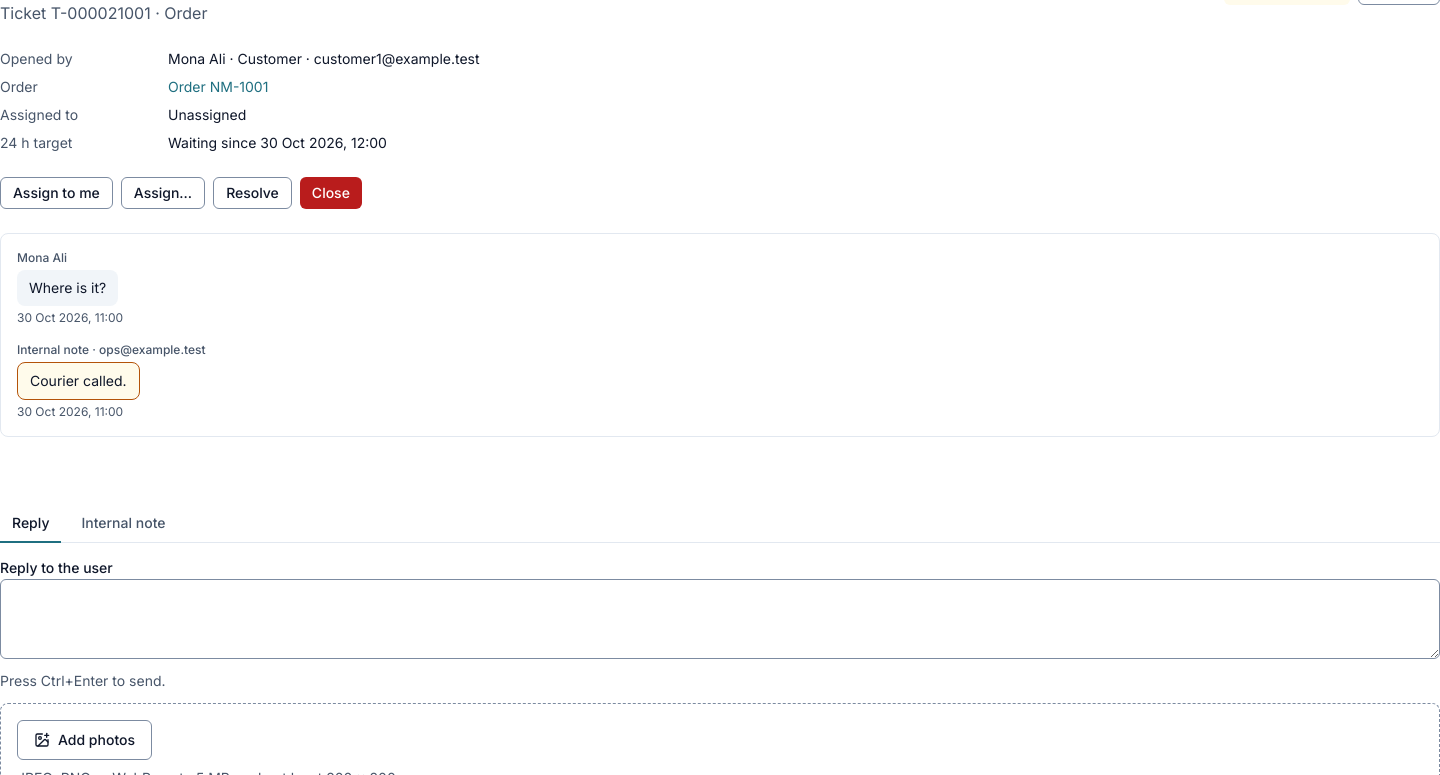
Test: ticket (spec 03 AD-29, T-M5) › a reply goes to the user (no "internal"), a note is internal and sends no typing signal
Type "On its way" into the text box labelled "Reply to the user". click: point(720, 619)
box: [0, 579, 1439, 659]
(page scrolled)
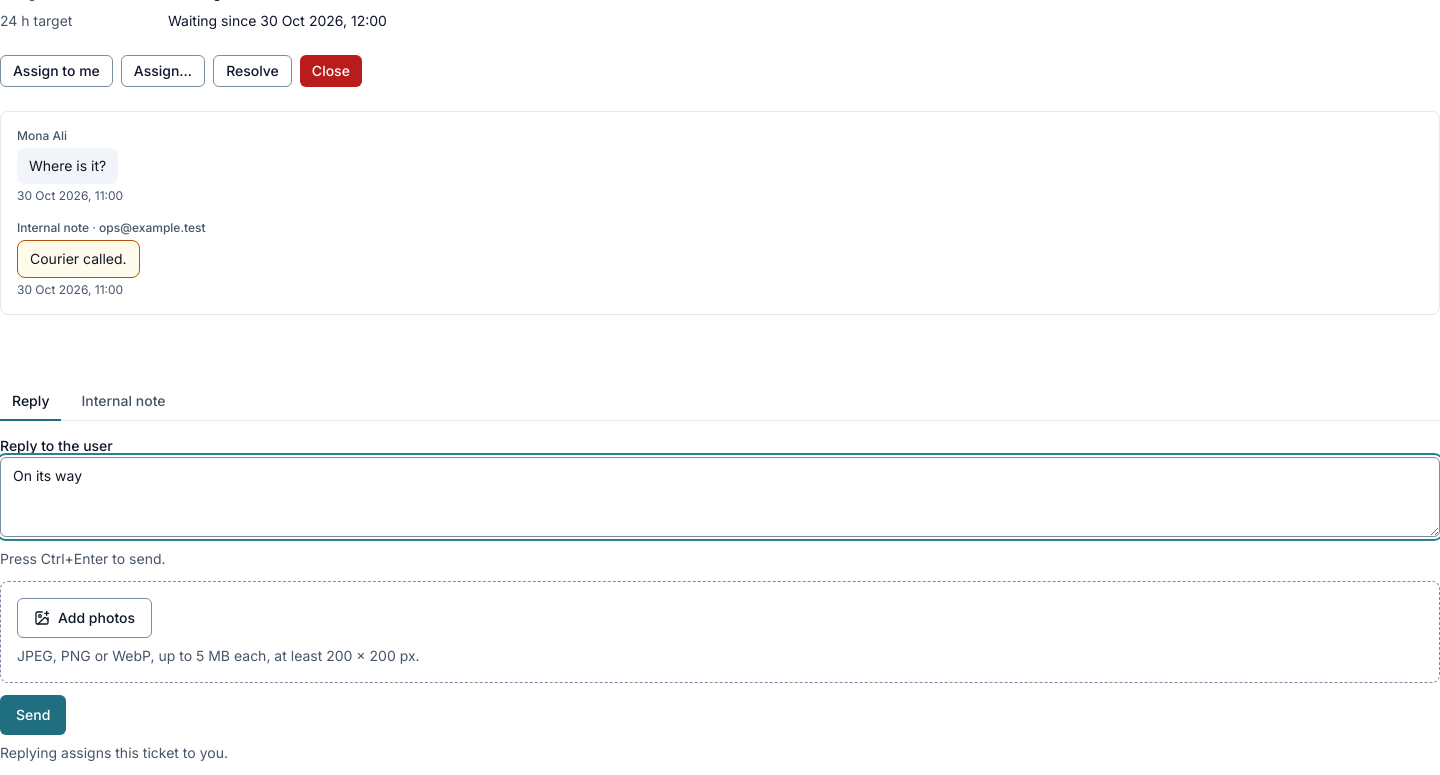
Click the button "Send". click: point(33, 715)
box: [0, 695, 66, 735]
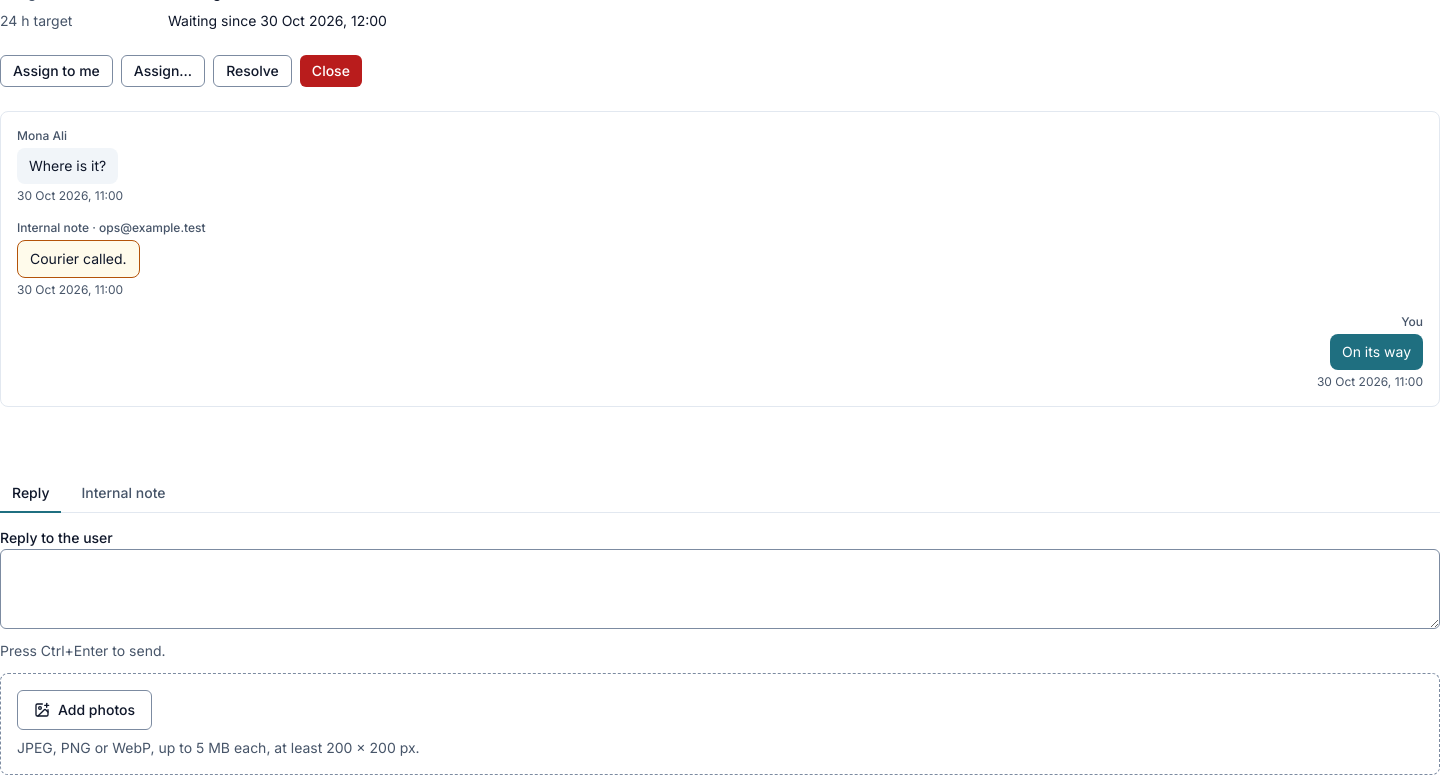
expect the text "On its way" is shown: met, box [1342, 342, 1411, 362]
Click the tab "Internal note". click: point(123, 494)
box: [69, 475, 177, 513]
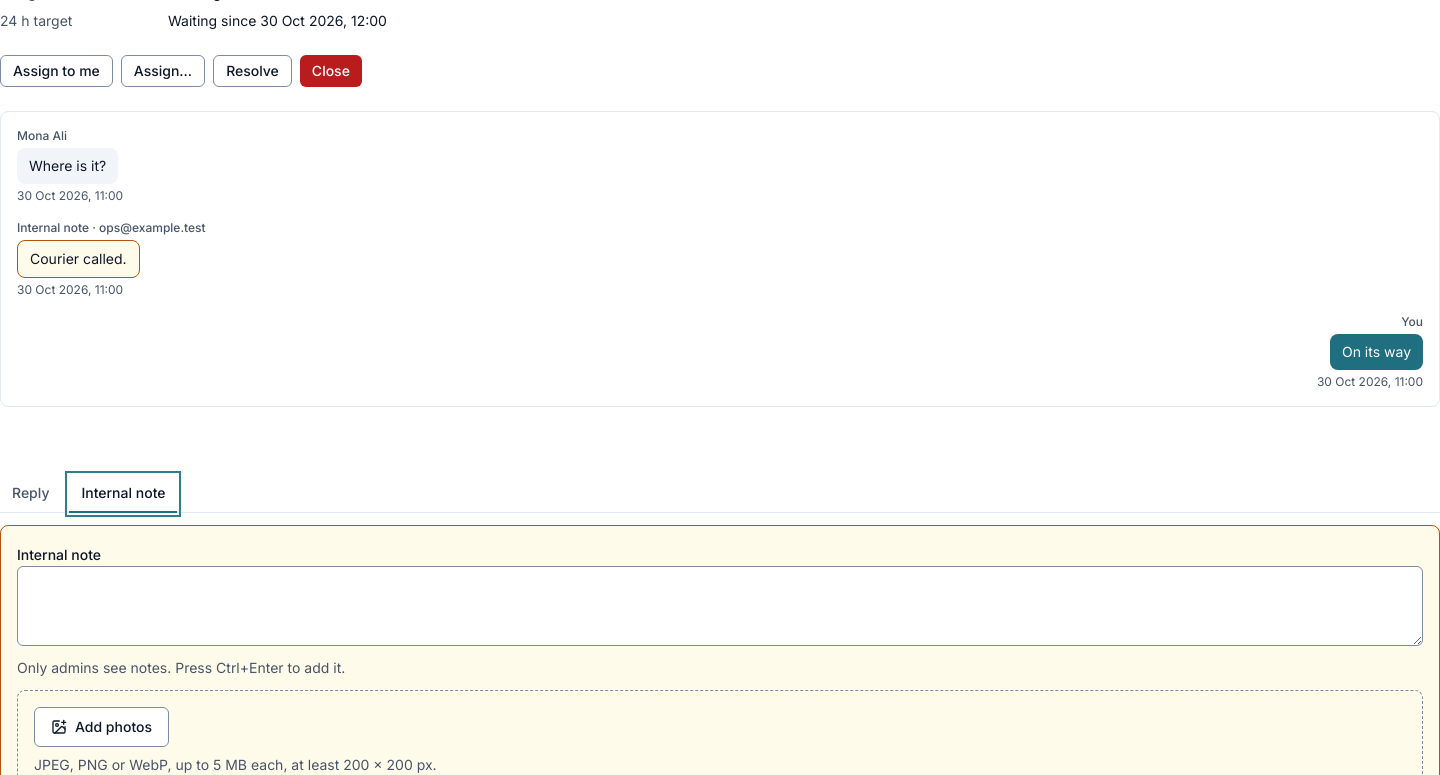
expect the tab "Internal note" is selected: met, box [69, 475, 177, 513]
Type "Refund if lost" into the text box labelled "Internal note". click: point(720, 606)
box: [17, 566, 1423, 646]
(page scrolled)
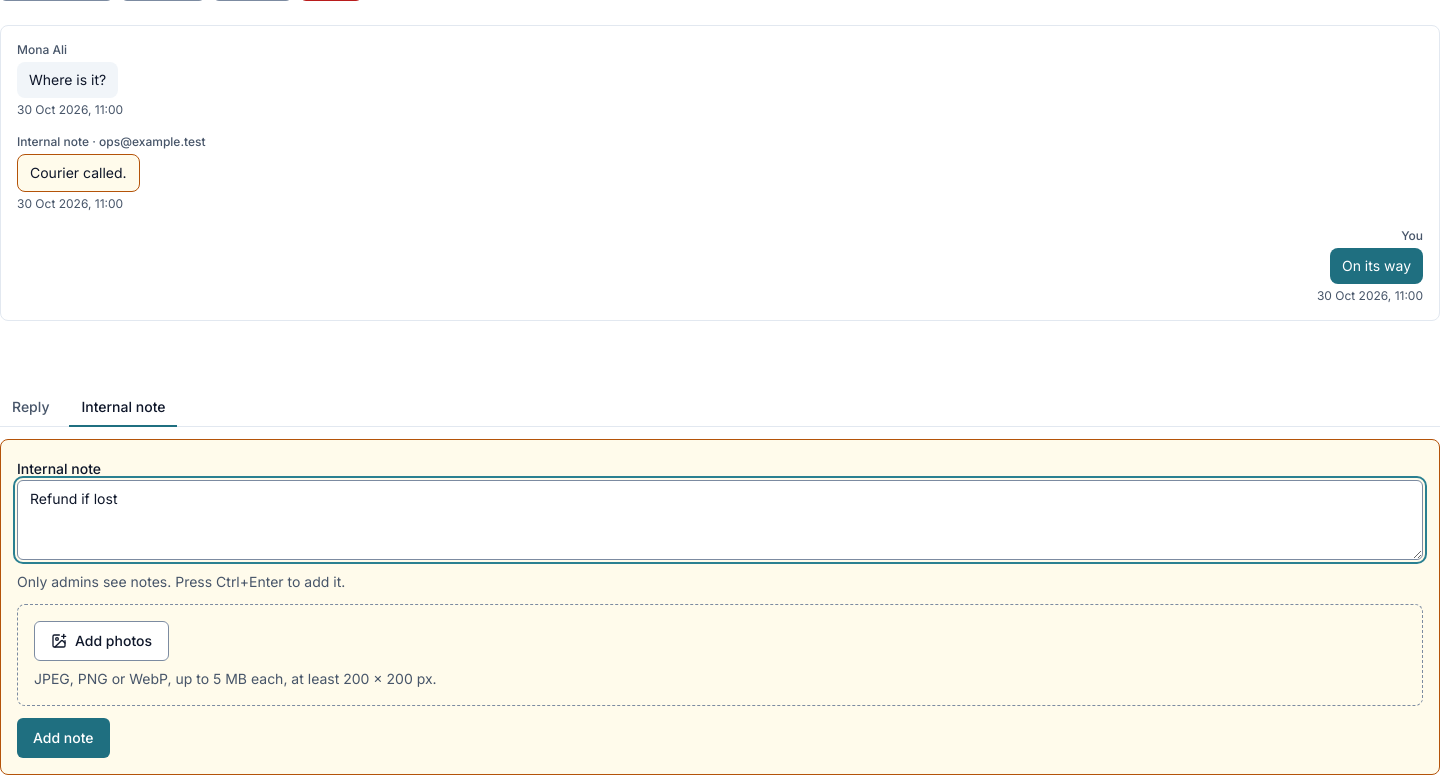
Click the button "Add note". click: point(63, 738)
box: [17, 718, 110, 758]
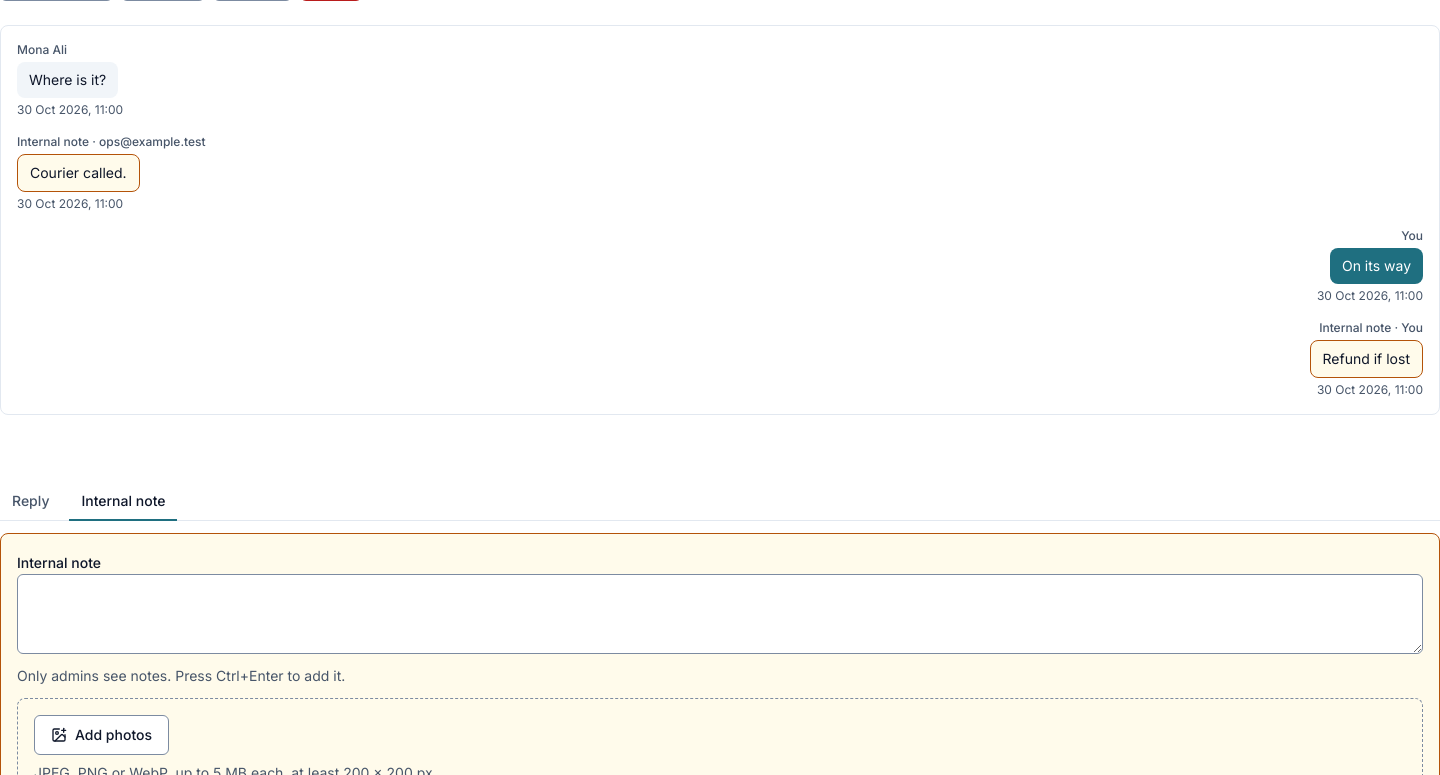
expect the text "Refund if lost" is shown: met, box [1322, 349, 1410, 369]
